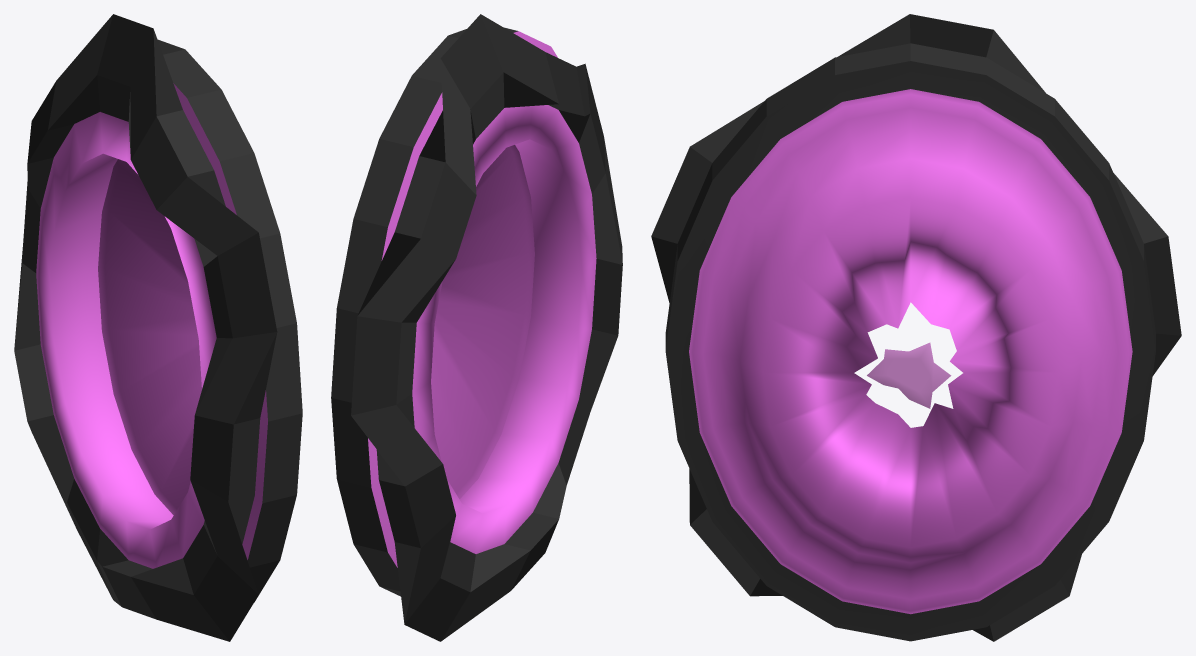
Rendered from portail.fbx.
The picture shows the model from 3 angles, left to right: view 1: azimuth 30°, elevation 25°; view 2: azimuth 150°, elevation 25°; view 3: azimuth 270°, elevation 25°; orthographic projection. The views are drawn at different scales.
Visible parts, largest first — view 1: pTorus2; view 2: pTorus2; view 3: pTorus2.
Part boxes in pixels (box(x1,y1,x2,y2)): pTorus2: box(14, 14, 302, 641); pTorus2: box(331, 14, 622, 641); pTorus2: box(651, 14, 1181, 641).
Size of the model in its own units: 9.25 by 40.12 by 30.72.
